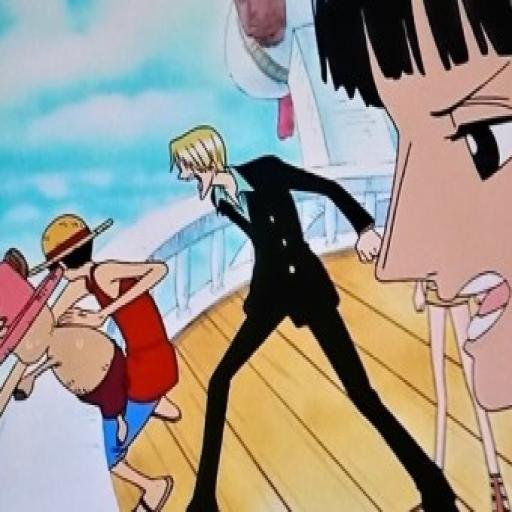Luffy: (27, 202, 118, 288)
NicoRobin: (314, 0, 512, 414)
sanji: (166, 118, 235, 215)
